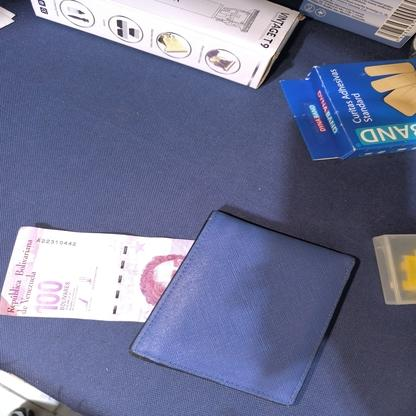one_hundred-front-vef: (0, 226, 195, 323)
